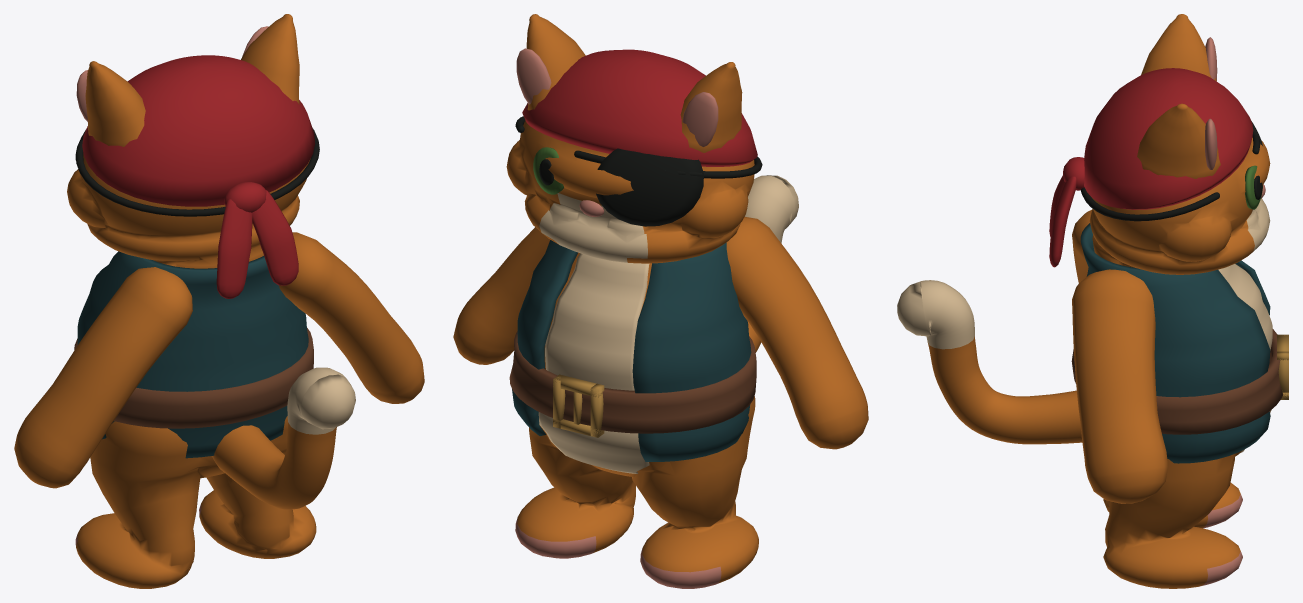
3 views of the same model, side by side, from view 1: azimuth 30°, elevation 25°; view 2: azimuth 150°, elevation 25°; view 3: azimuth 270°, elevation 25° (orthographic). The views are drawn at different scales.
Size of the model in its own units: 0.964 by 1.2 by 0.8677.
